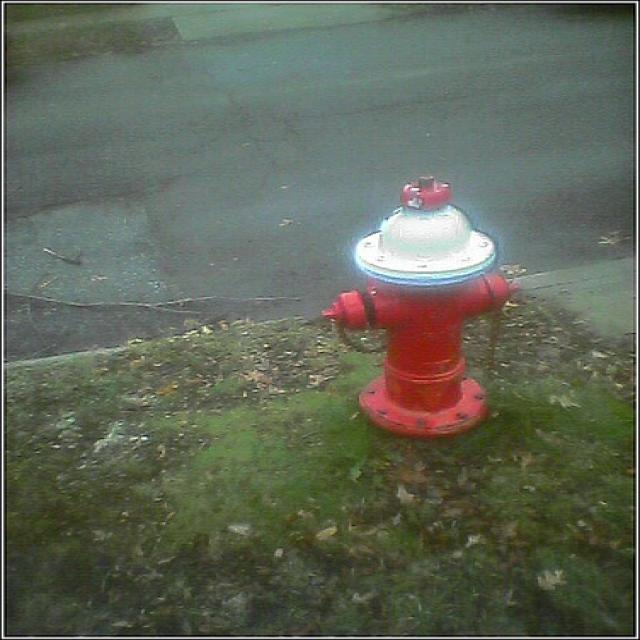fire_hydrant: (316, 174, 521, 442)
